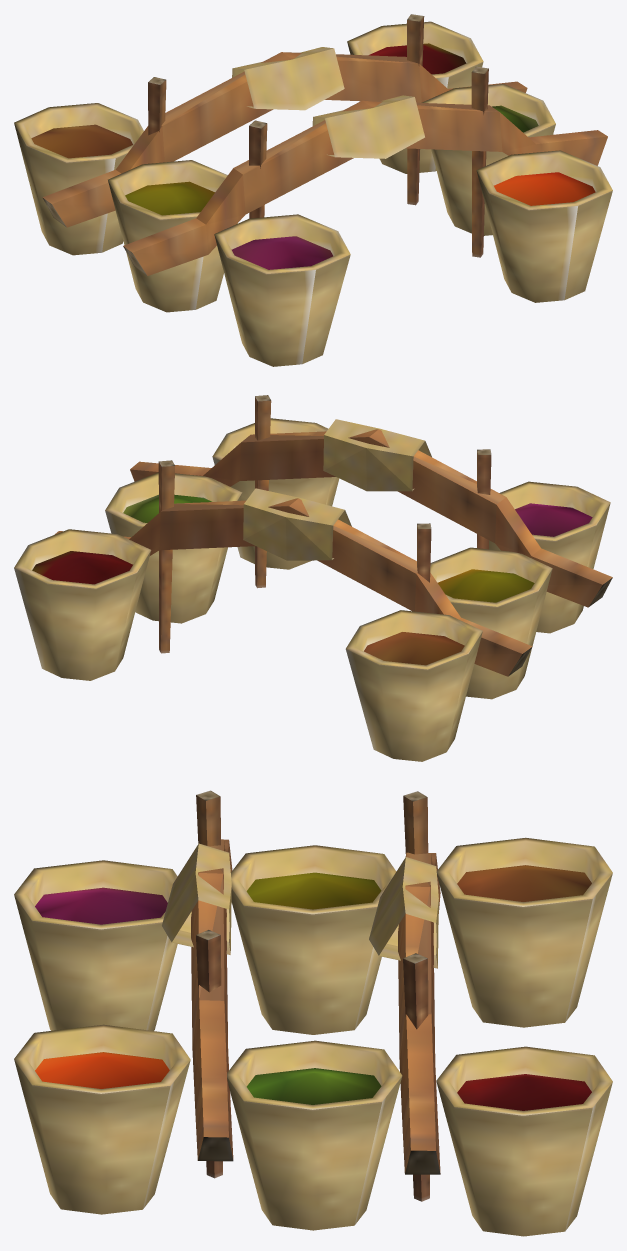
Rendered from sanga_merc.dae.
The picture shows the model from 3 angles, top to bottom: view 1: azimuth 30°, elevation 25°; view 2: azimuth 150°, elevation 25°; view 3: azimuth 270°, elevation 25°; orthographic projection. The views are drawn at different scales.
Visible parts, largest first — view 1: saga_merc; view 2: saga_merc; view 3: saga_merc.
Boxes of the visible parts, bbox=[...] form: saga_merc: bbox=[14, 14, 612, 366]; saga_merc: bbox=[14, 395, 612, 761]; saga_merc: bbox=[14, 790, 612, 1236].
Bounding box in the file's own units: 3.29 × 2.79 × 1.3.
